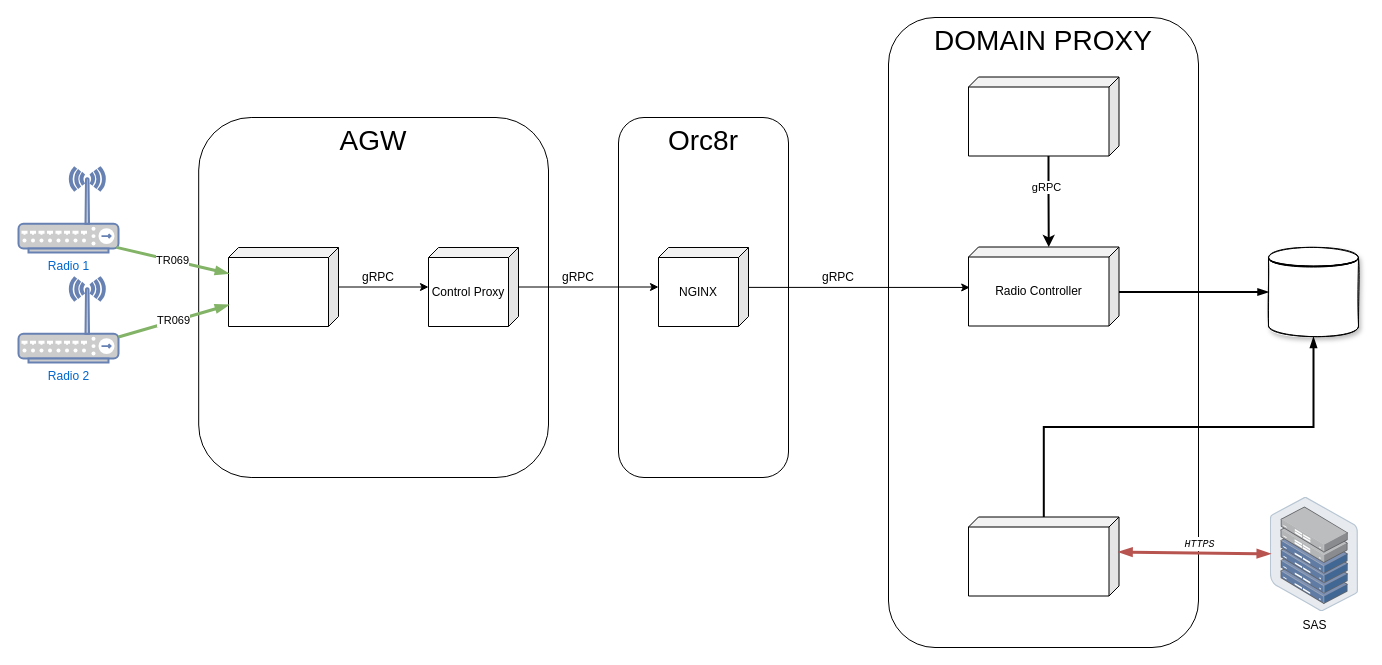
This 1382x665 diagram has some shape labels left out. Here are the shapes that lost their labels. From the top down, the centre of each, then its label:
the point at 1043,116: Active Mode controller
the point at 283,286: EnodeBd
the point at 1314,293: Relational Database
the point at 1043,556: Configuration Controller
